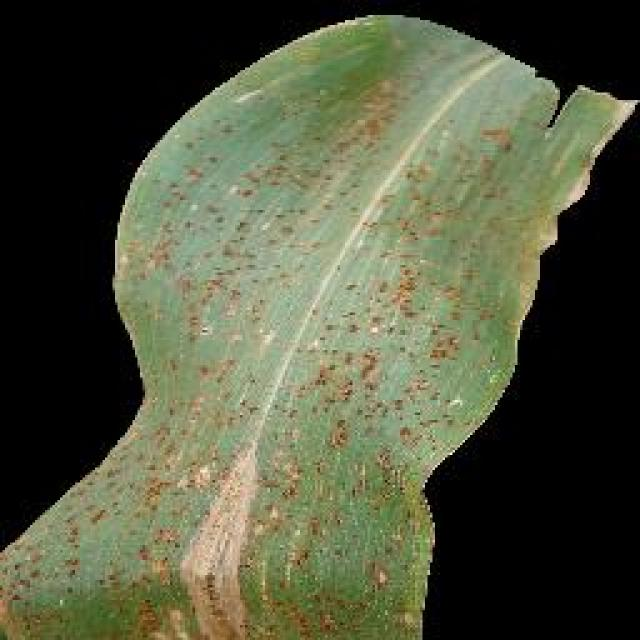Corn Common Rust: (195, 89, 508, 628)
